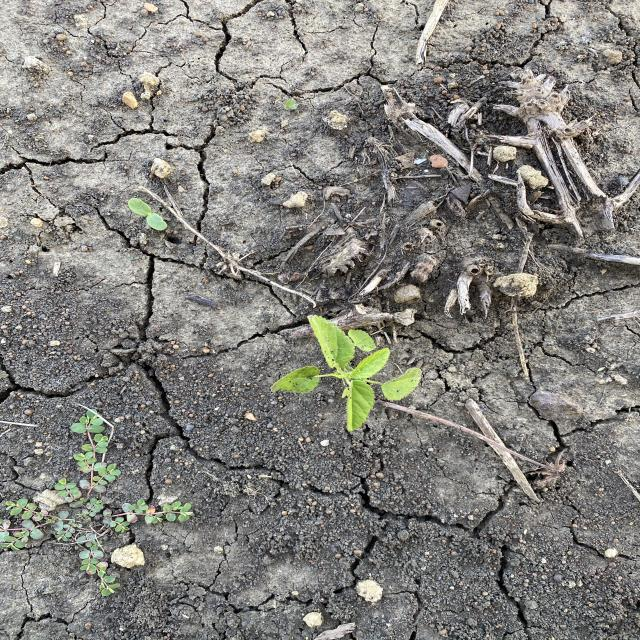PricklySida: (267, 312, 425, 433)
SpottedSpurge: (2, 406, 196, 597)
